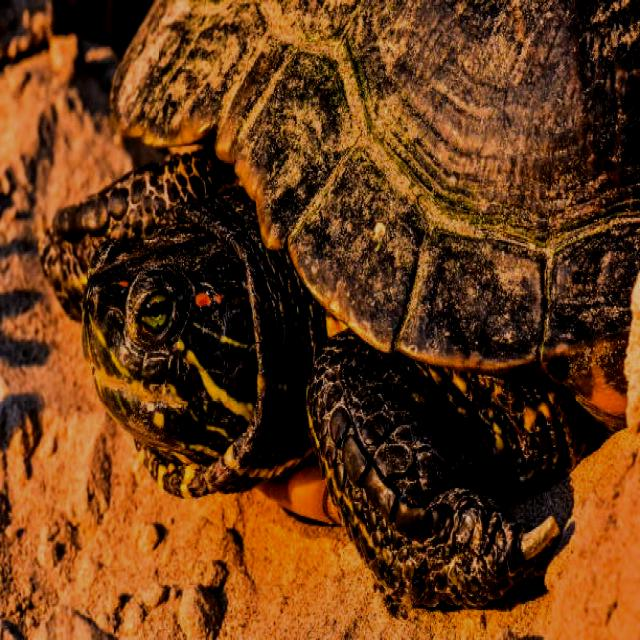tortoise: (44, 0, 640, 602)
